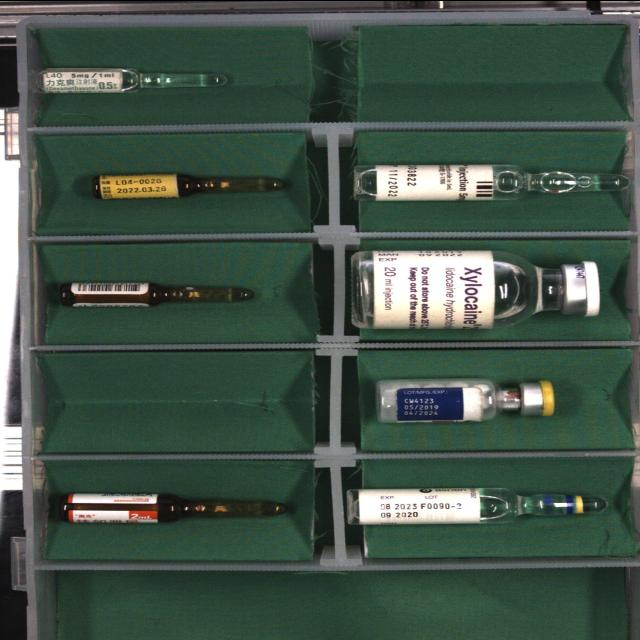Vials: (351, 250, 601, 328), (376, 377, 555, 422)
